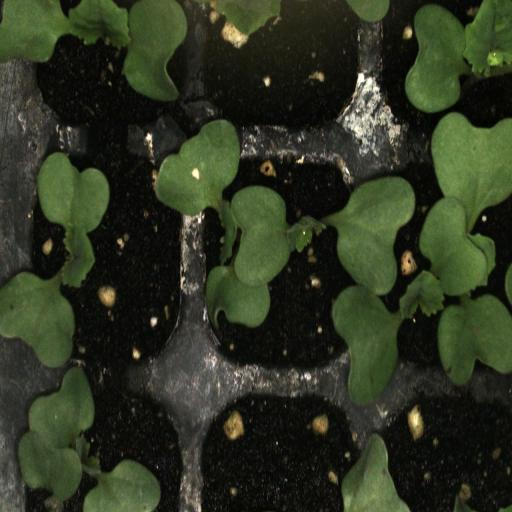seedling: (12, 147, 189, 376), (15, 0, 190, 143), (376, 0, 512, 140)
twoseedling: (189, 144, 371, 388), (370, 142, 512, 390), (14, 377, 188, 512)
